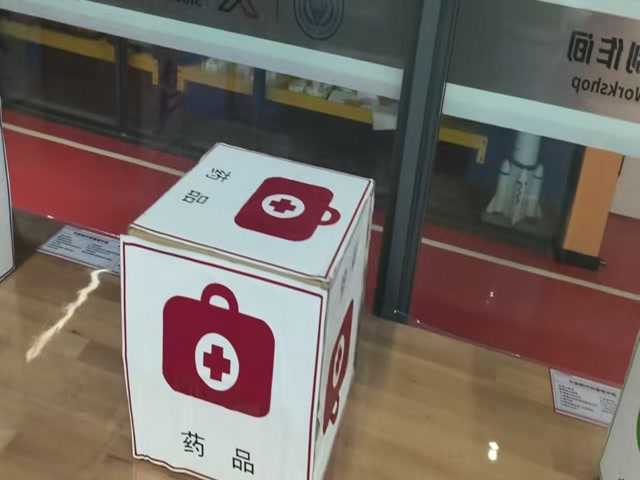Cube_medicine: (117, 137, 376, 292)
